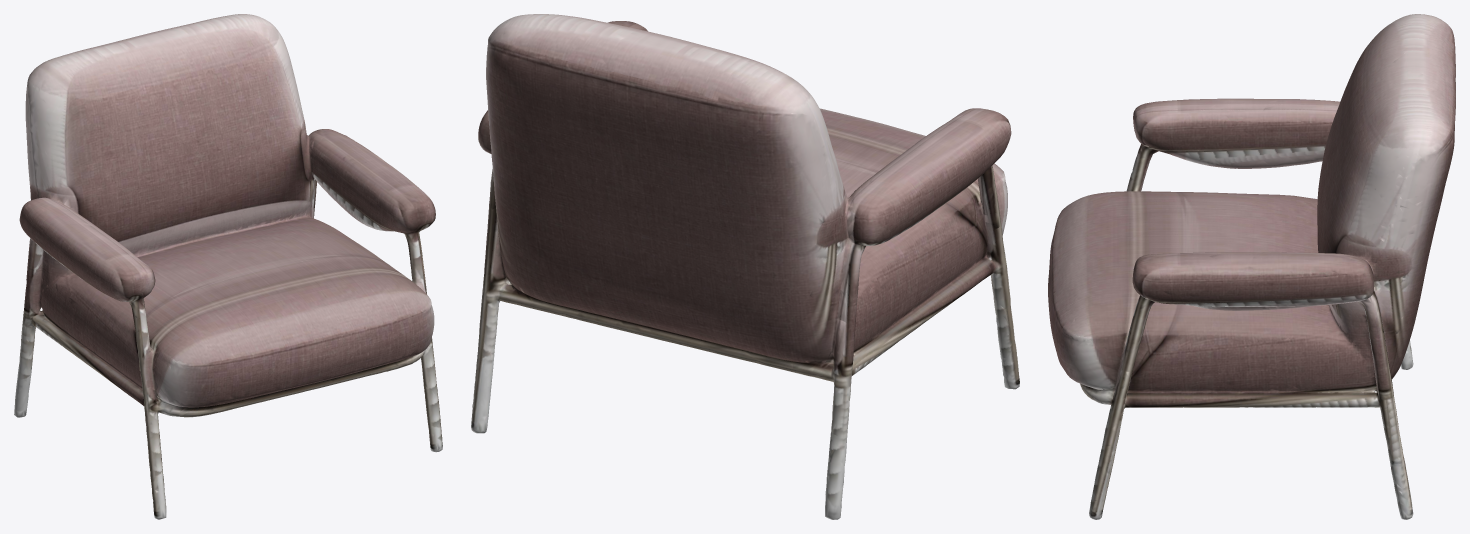
Rendered from chair.glb.
3 renders of one model, left to right at view 1: azimuth 30°, elevation 25°; view 2: azimuth 150°, elevation 25°; view 3: azimuth 270°, elevation 25°, orthographic. The views are drawn at different scales.
Visible parts, largest first — view 1: geometry_0; view 2: geometry_0; view 3: geometry_0.
Boxes of the visible parts, bbox=[...] form: geometry_0: bbox=[14, 14, 442, 519]; geometry_0: bbox=[471, 14, 1019, 519]; geometry_0: bbox=[1048, 14, 1455, 519].
Size of the model in its own units: 1.96 by 1.96 by 1.91.
1 material, 1 textured.
